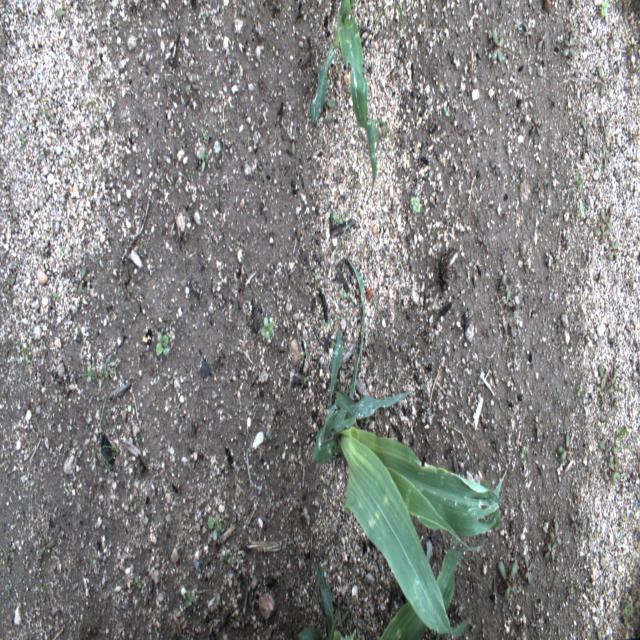crop: (312, 255, 506, 636), (298, 538, 486, 638), (312, 0, 378, 195)
weed: (371, 3, 405, 41), (496, 558, 520, 602), (492, 24, 504, 65), (76, 262, 90, 296), (556, 432, 571, 462), (324, 93, 337, 126), (155, 328, 169, 358), (592, 222, 610, 244), (260, 316, 275, 342), (38, 536, 56, 557), (93, 433, 110, 455), (550, 520, 562, 549), (54, 1, 71, 21), (185, 68, 200, 90), (562, 36, 576, 58), (525, 552, 534, 586), (582, 117, 592, 147), (608, 462, 622, 483), (206, 518, 224, 534), (10, 200, 18, 236), (534, 410, 543, 442), (598, 65, 606, 100), (600, 384, 610, 412), (599, 112, 608, 142), (600, 206, 612, 228), (508, 310, 518, 336), (609, 368, 619, 394), (522, 21, 532, 46), (501, 287, 514, 306), (623, 598, 634, 620), (544, 542, 556, 562), (531, 115, 542, 136), (536, 31, 548, 50), (599, 439, 611, 458), (604, 469, 616, 488), (602, 142, 610, 170), (3, 277, 16, 294), (582, 325, 595, 342), (185, 588, 195, 609), (347, 178, 362, 192), (600, 408, 614, 423), (36, 1, 44, 27), (598, 364, 606, 390), (410, 194, 420, 214), (608, 240, 618, 260), (489, 158, 500, 176), (200, 150, 208, 172), (534, 179, 542, 201), (615, 0, 629, 12), (628, 464, 638, 480), (333, 210, 344, 224), (571, 513, 578, 535), (600, 0, 609, 17), (608, 27, 615, 48), (476, 235, 486, 249), (610, 446, 618, 462), (338, 288, 348, 300), (586, 468, 594, 483), (134, 576, 142, 590), (576, 382, 583, 398), (4, 584, 13, 596), (520, 443, 526, 461), (86, 365, 92, 383), (4, 548, 10, 565), (313, 266, 319, 282), (632, 0, 640, 12), (89, 551, 94, 568), (321, 316, 328, 328), (59, 243, 65, 257), (40, 581, 47, 592), (470, 622, 476, 634), (302, 374, 310, 383), (54, 291, 60, 303), (570, 581, 575, 594), (431, 560, 436, 571), (597, 628, 601, 640)
